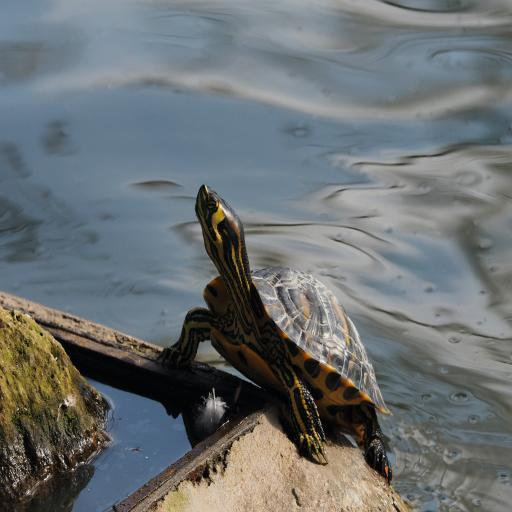turtles: (157, 185, 392, 483)
